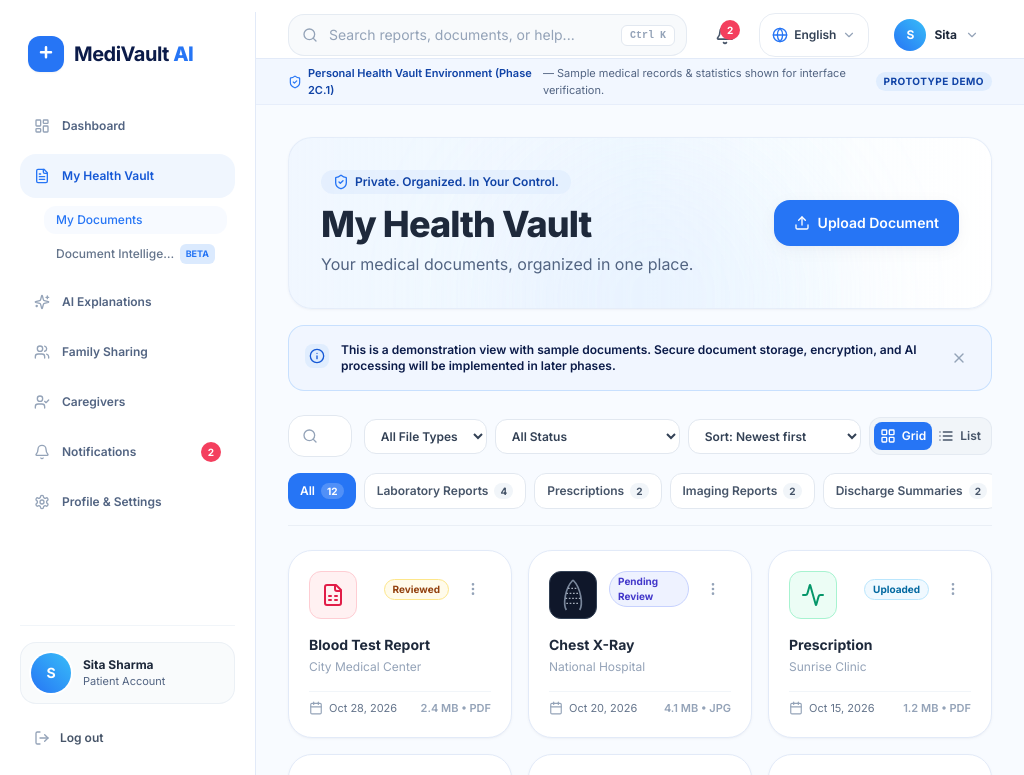
Test: MediVault AI — Phase 2C.1 Personal Health Vault Frontend Suite › 2. displays the demonstration disclaimer banner and allows dismissing it
Expected: the text "This is a demonstration view with sample documents" is shown, x1=341 y1=342 x2=917 y2=373
Click the button named "Dismiss demo notice". click: (959, 358)
box: x1=943 y1=342 x2=975 y2=374
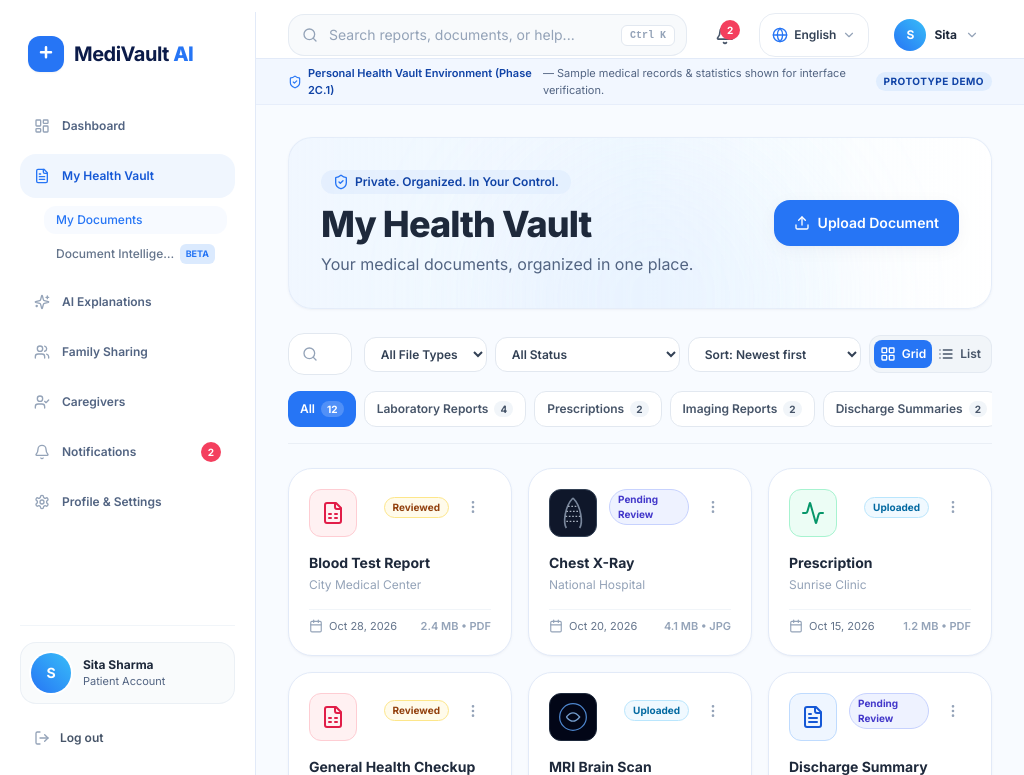
Expected: the text "This is a demonstration view with sample documents" is gone
